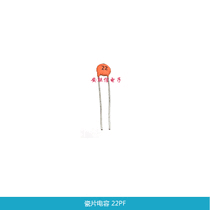ceramic capacitor: (87, 53, 129, 90)
